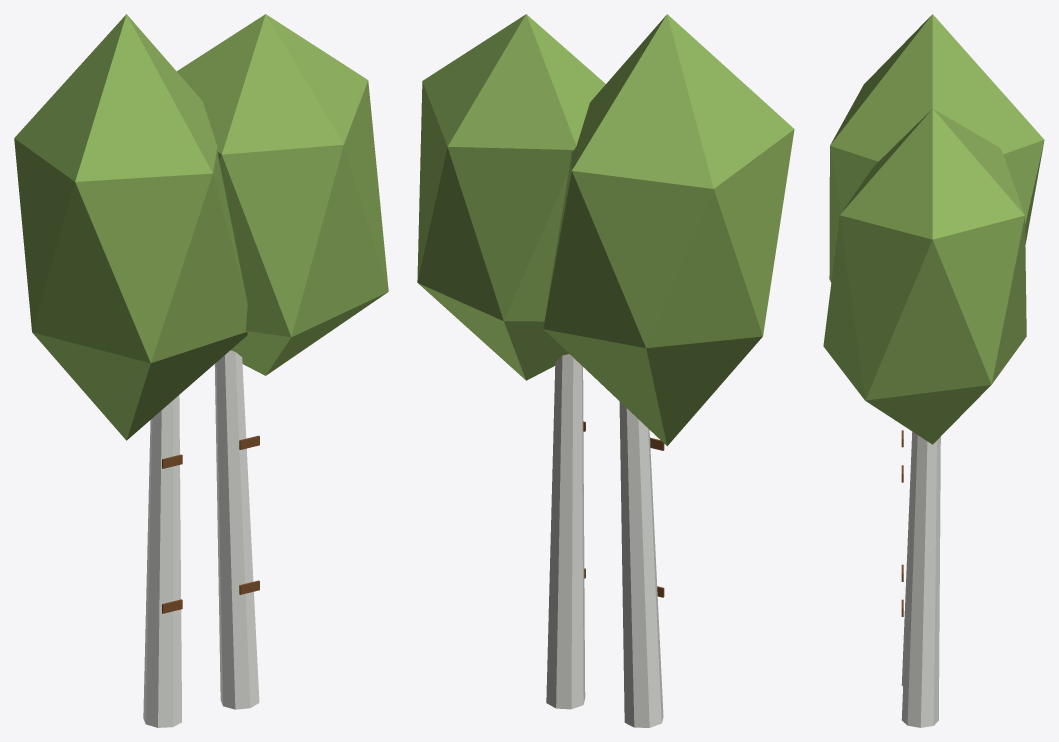
File: tree_birch.glb
The picture shows the model from 3 angles, left to right: view 1: azimuth 30°, elevation 25°; view 2: azimuth 150°, elevation 25°; view 3: azimuth 270°, elevation 25°; orthographic projection. The views are drawn at different scales.
Visible parts, largest first — view 1: tree_birch__static; view 2: tree_birch__static; view 3: tree_birch__static.
Boxes of the visible parts, left/top/right/bottom form: tree_birch__static: left=14, top=14, right=388, bottom=727; tree_birch__static: left=417, top=14, right=794, bottom=727; tree_birch__static: left=823, top=14, right=1044, bottom=727.
Size of the model in its own units: 2.91 by 5.87 by 1.79.
